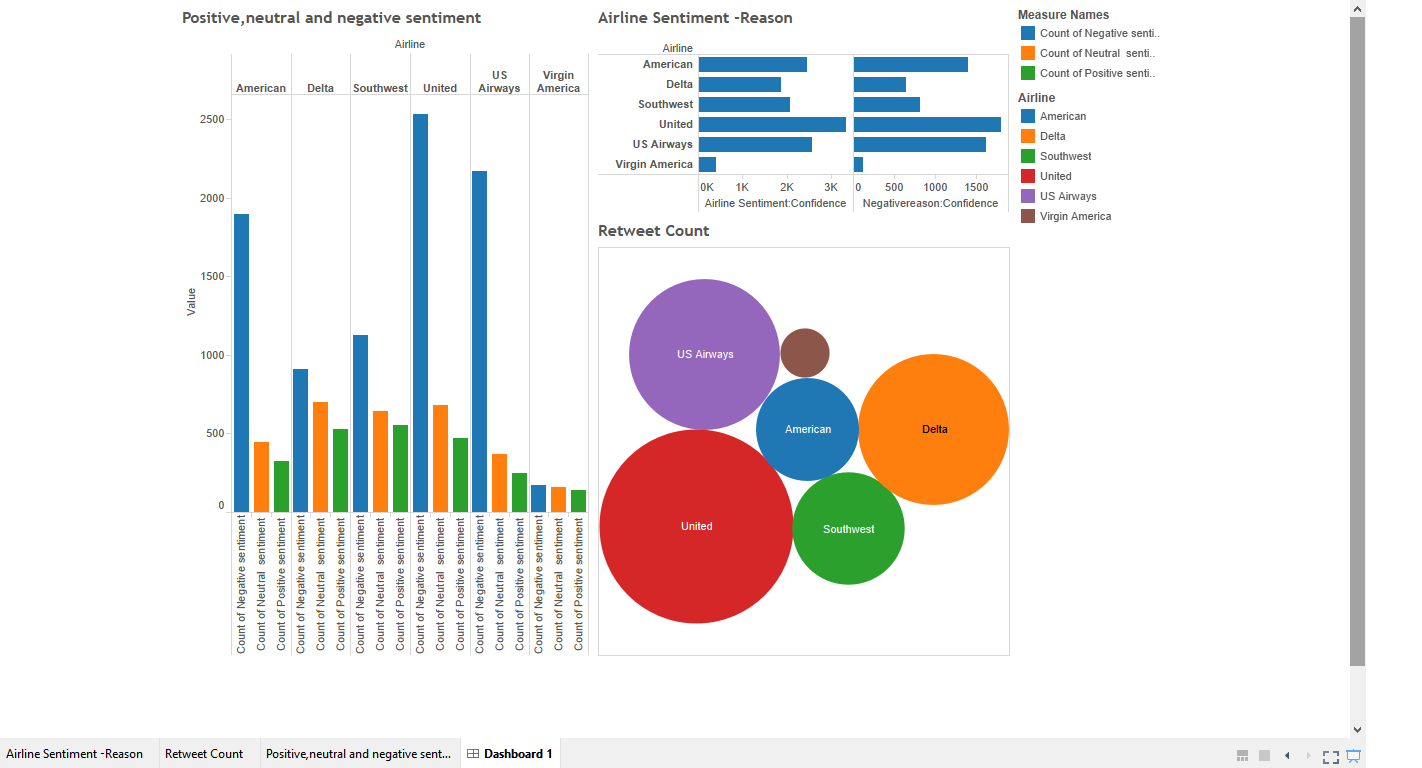

The dashboard page shown, as its layout file describes it:
{"tool":"tableau","page":{"name":"Dashboard 1","canvas":[1000,800],"ordinal":0},"visuals":[{"type":"worksheet","title":"Positive,neutral and negative sentiment","mark":"Automatic","cols":["airline"],"box":[0,0,420,660]},{"type":"worksheet","title":"Airline Sentiment -Reason","mark":"Automatic","rows":["airline"],"cols":["confidence","confidence"],"box":[420,0,420,217]},{"type":"legend","title":"Positive,neutral and negative sentiment","param":"[excel-direct.42344.185446203701].[:Measure Names]","box":[840,0,160,87]},{"type":"legend","title":"Retweet Count ","param":"[excel-direct.42344.130664224540].[none:airline:nk]","box":[840,87,160,143]},{"type":"worksheet","title":"Retweet Count ","mark":"Circle","box":[420,217,420,583]}]}

Visuals, with their boxes on the page's 1000x800 design canvas (x1, y1, x2, y2). These are canvas units, not pixel positions in the 1422x768 screenshot, which may show the page scaled, cropped or inside an application window:
"Positive,neutral and negative sentiment" worksheet: x1=0, y1=0, x2=420, y2=660
"Airline Sentiment -Reason" worksheet: x1=420, y1=0, x2=840, y2=217
"Positive,neutral and negative sentiment" legend: x1=840, y1=0, x2=1000, y2=87
"Retweet Count " legend: x1=840, y1=87, x2=1000, y2=230
"Retweet Count " worksheet (Circle marks): x1=420, y1=217, x2=840, y2=800
